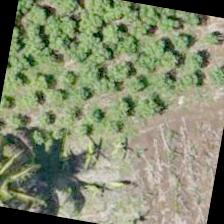Kelapa_Sawit: (0, 142, 40, 211)
